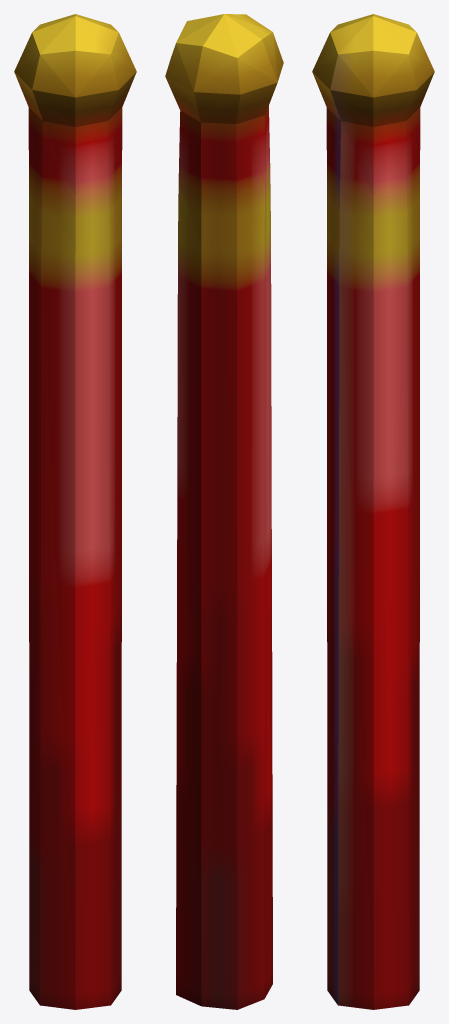
The model's file is ropepole_red_0420x09.obj.
The picture shows the model from 3 angles, left to right: view 1: azimuth 90°, elevation 25°; view 2: azimuth 150°, elevation 25°; view 3: azimuth 270°, elevation 25°; orthographic projection.
Parts seen in each view (by area): view 1: Ropepole_Red; view 2: Ropepole_Red; view 3: Ropepole_Red.
Part boxes in pixels (x1,y1,x2,y2): Ropepole_Red: [14, 14, 136, 1009]; Ropepole_Red: [165, 14, 283, 1009]; Ropepole_Red: [312, 14, 434, 1009].
Bounding box in the file's own units: 0.2656 × 2.33 × 0.2656.
